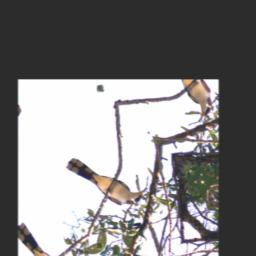Cuckoo: (62, 134, 149, 223)
